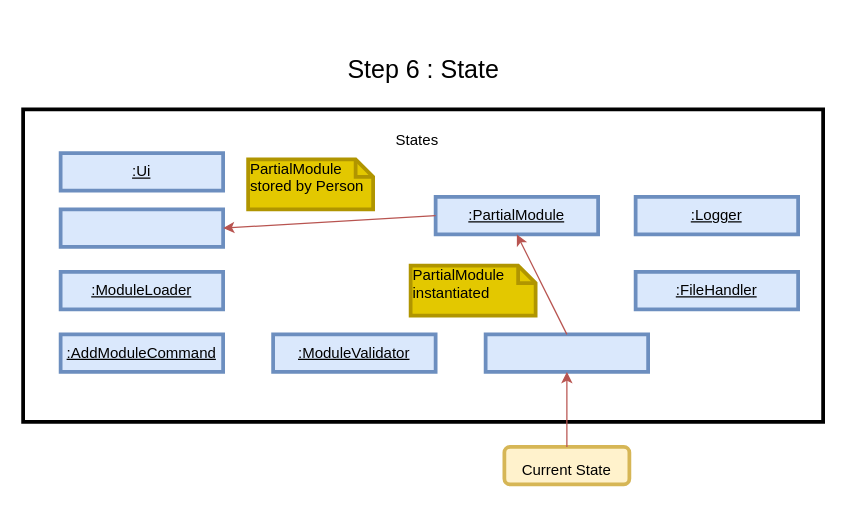
The diagram is 846 pixels wide and 508 high, and some of its shapes have lost their labels. Each missing label, with the centre of its shape:
":AddUtils" goes at [566,352].
":Person" goes at [141,227].
